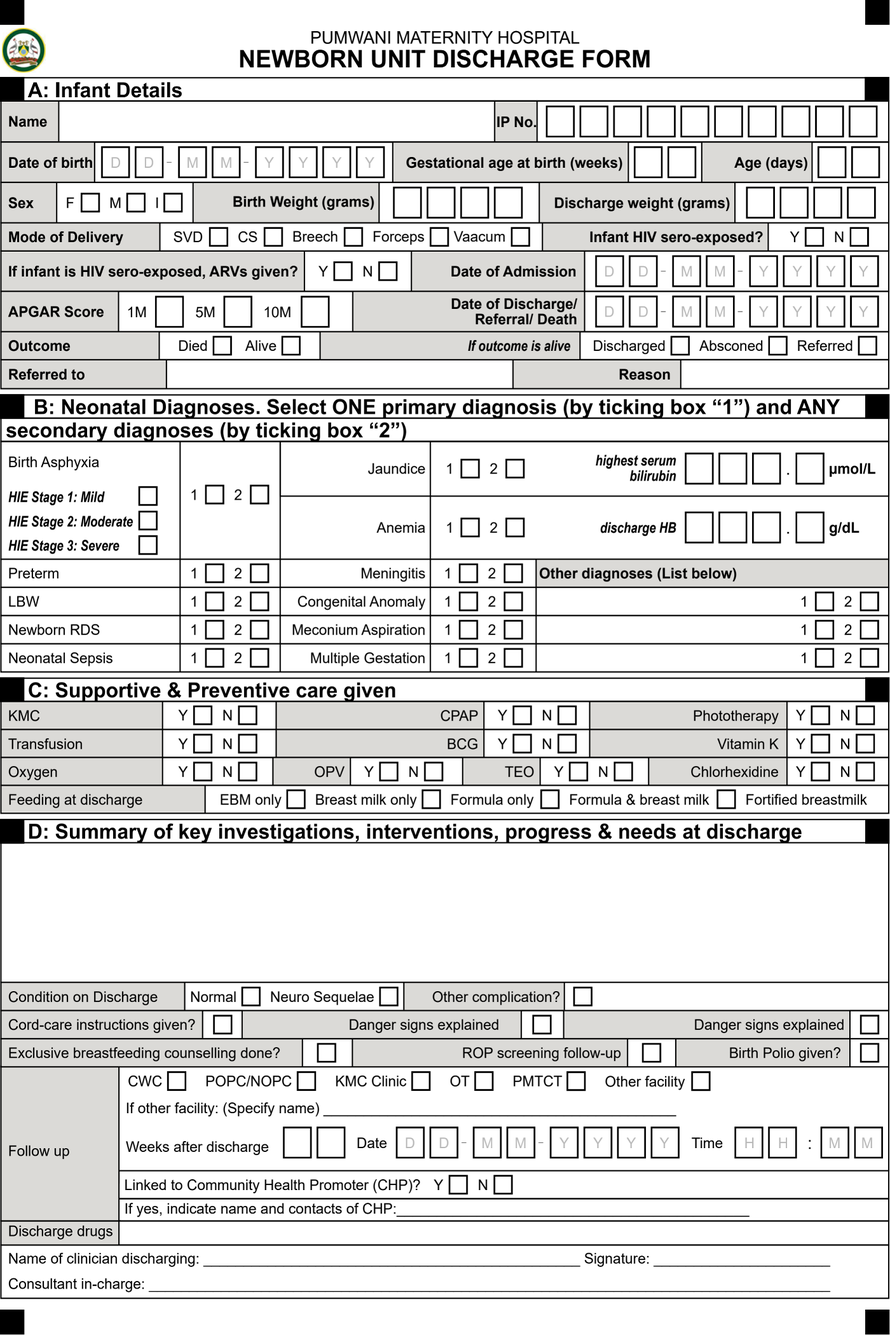mask: (3, 1249, 886, 1294), (58, 24, 861, 48), (59, 105, 491, 140), (539, 103, 886, 140), (324, 1095, 711, 1118), (170, 362, 510, 387), (400, 1202, 887, 1218), (529, 1174, 887, 1195), (1, 29, 48, 74)
